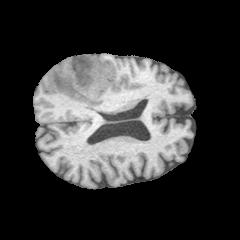glioma: (52, 54, 115, 110)
